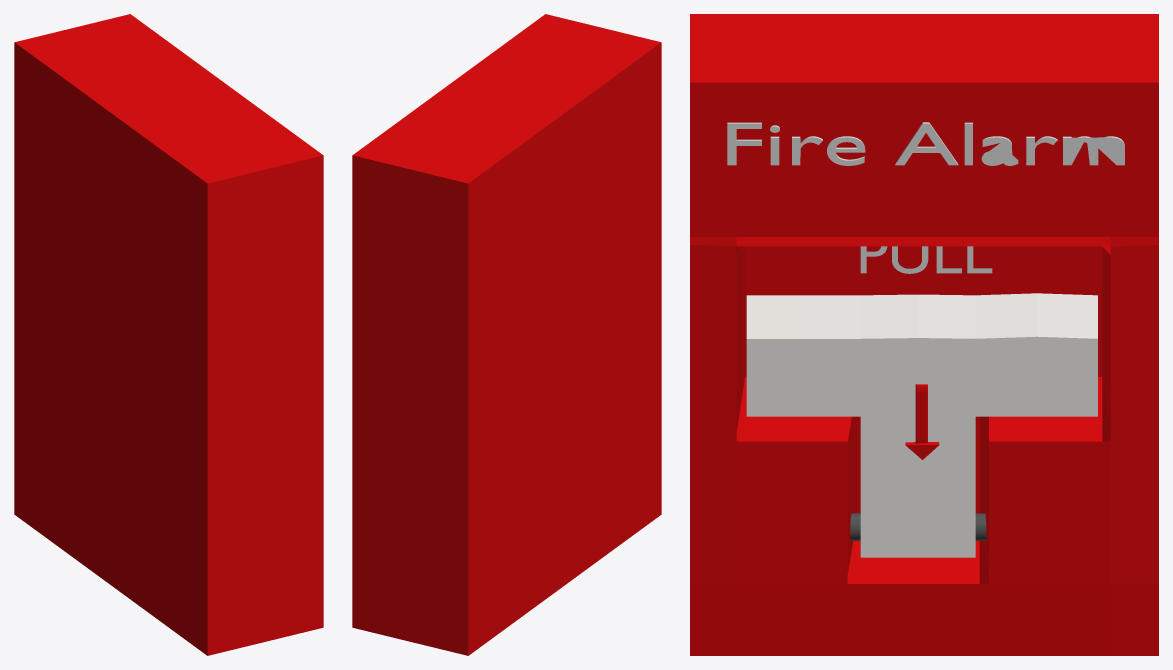
File: firealarm 1.fbx
3 views of the same model, side by side, from view 1: azimuth 30°, elevation 25°; view 2: azimuth 150°, elevation 25°; view 3: azimuth 270°, elevation 25° (orthographic). The views are drawn at different scales.
Visible parts, largest first — view 1: Text; view 2: Text; view 3: Text, Cube.001.
Part boxes in pixels (x1,y1,x2,y2): Text: [14, 14, 323, 655]; Text: [352, 14, 661, 655]; Text: [690, 14, 1158, 655]; Cube.001: [746, 293, 1097, 557].
Size of the model in its own units: 52.32 by 200 by 148.
